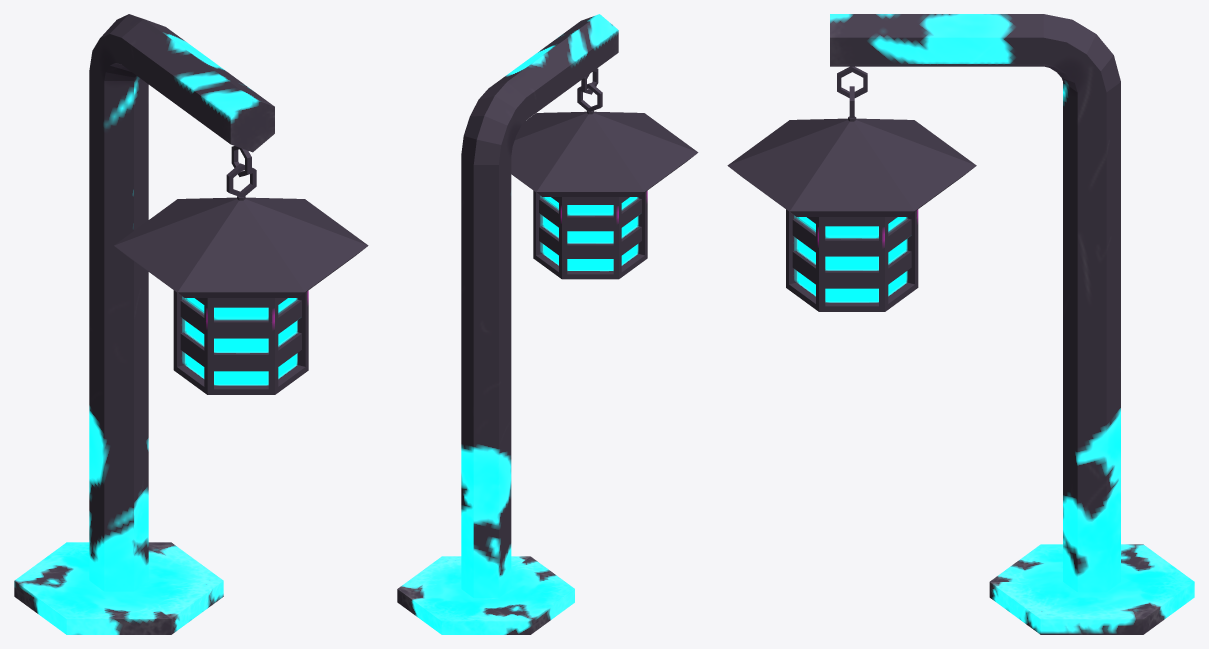
The model's file is LampMetal.fbx.
The picture shows the model from 3 angles, left to right: view 1: azimuth 30°, elevation 25°; view 2: azimuth 150°, elevation 25°; view 3: azimuth 270°, elevation 25°; orthographic projection. The views are drawn at different scales.
Visible parts, largest first — view 1: LampMetal; view 2: LampMetal; view 3: LampMetal.
Boxes of the visible parts, x1,y1,x2,y2 form: LampMetal: [14, 14, 368, 634]; LampMetal: [397, 14, 698, 634]; LampMetal: [727, 14, 1194, 634].
Bounding box in the file's own units: 31.34 × 93.35 × 67.78.
